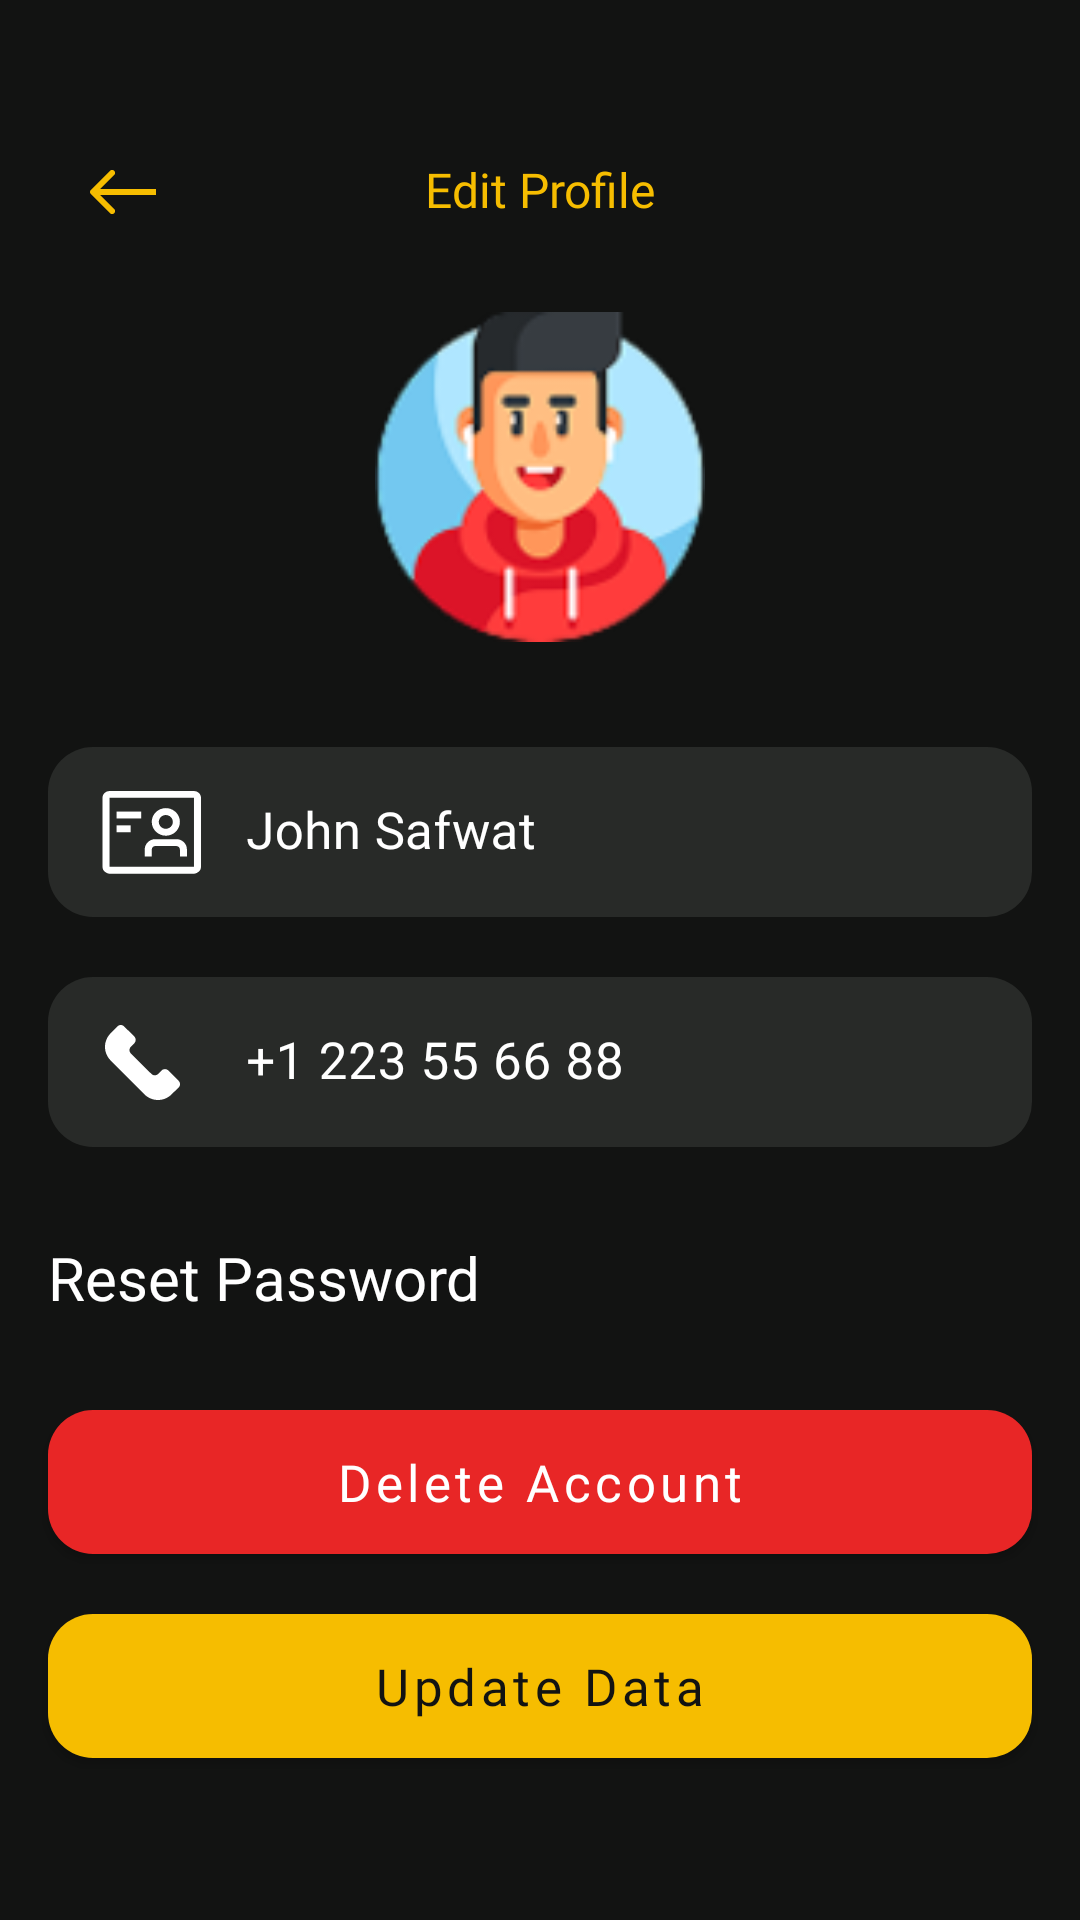

Named icons in this screenshot (1080 × 1920) and their centers, [x,y]:
back: [123,192]
